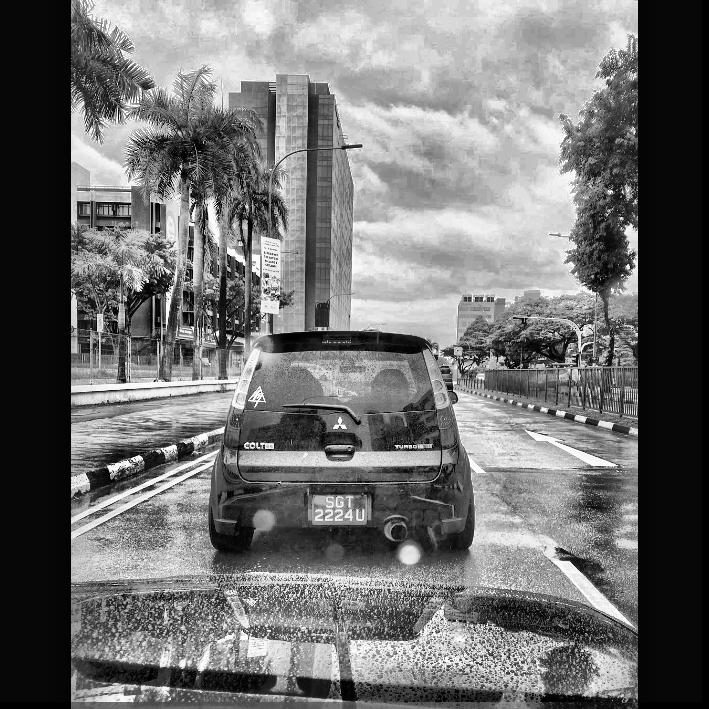License-Plates: (312, 494, 364, 522)
